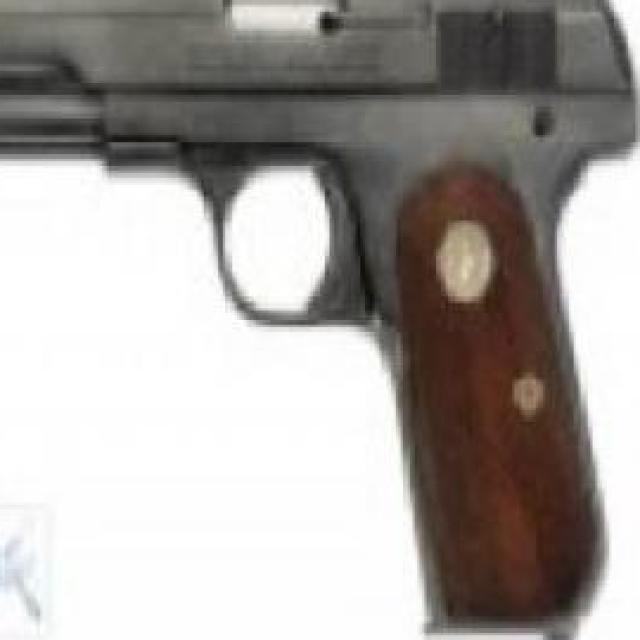pistol: (0, 0, 631, 621)
